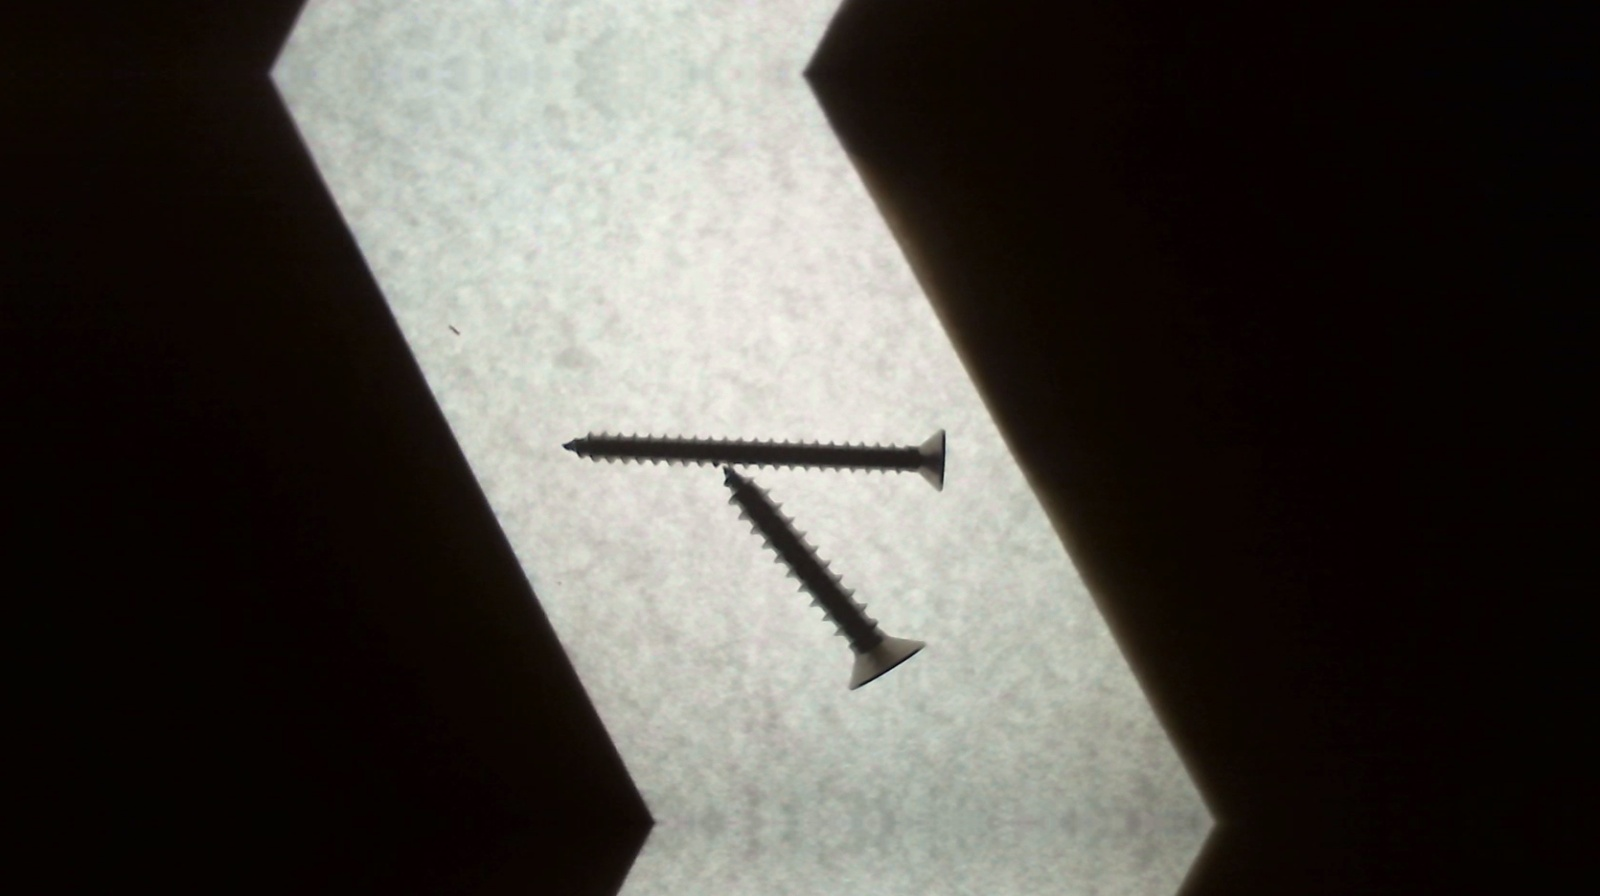S001: (719, 468, 931, 693)
S002: (557, 427, 963, 495)
